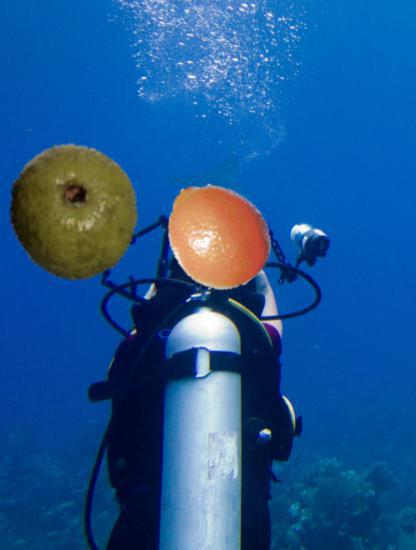Guava: (4, 142, 145, 283)
Tangelo: (160, 177, 274, 291)
